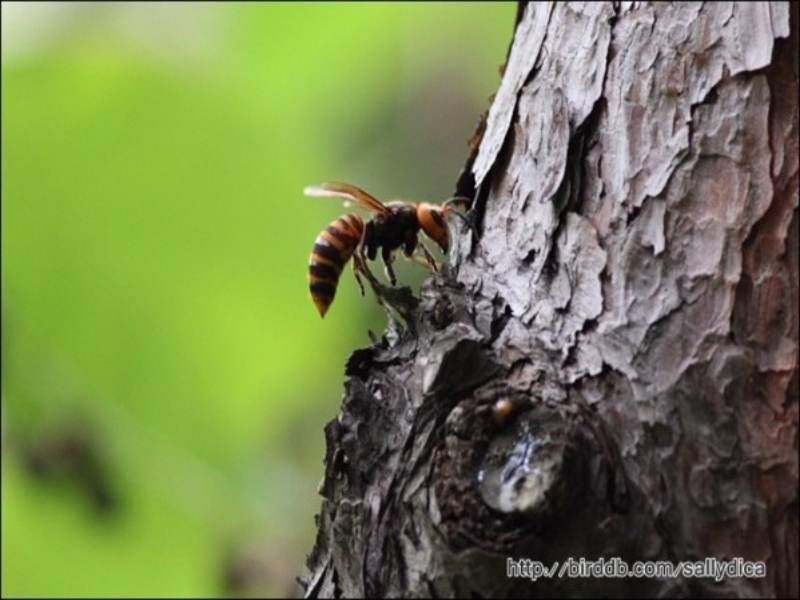asian_giant_hornet: (306, 190, 473, 327)
